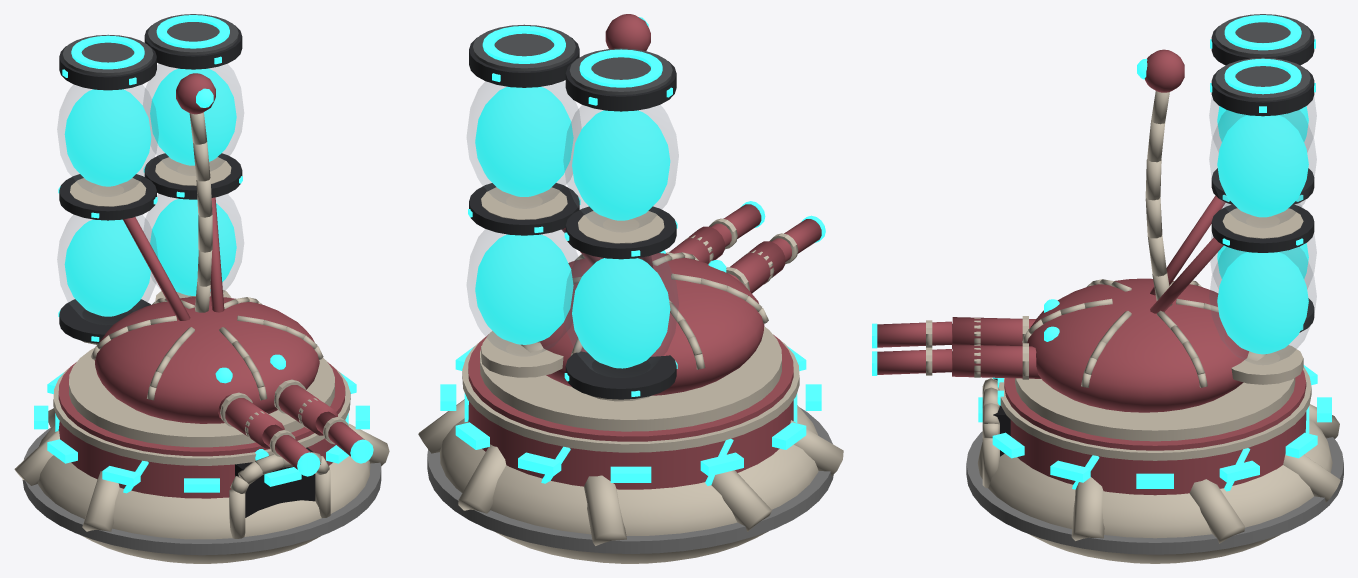
Rendered from Machinegoon_T2_Spitter.glb.
The picture shows the model from 3 angles, left to right: view 1: azimuth 30°, elevation 25°; view 2: azimuth 150°, elevation 25°; view 3: azimuth 270°, elevation 25°; orthographic projection. The views are drawn at different scales.
Visible parts, largest first — view 1: Machinegoon_T2_Spitter_Turret, Machinegoon_T2_Spitter_Base; view 2: Machinegoon_T2_Spitter_Turret, Machinegoon_T2_Spitter_Base; view 3: Machinegoon_T2_Spitter_Turret, Machinegoon_T2_Spitter_Base.
Part boxes in pixels (box(x1,y1,x2,y2)): Machinegoon_T2_Spitter_Turret: box(57, 14, 373, 476); Machinegoon_T2_Spitter_Base: box(14, 362, 389, 563); Machinegoon_T2_Spitter_Turret: box(467, 14, 825, 431); Machinegoon_T2_Spitter_Base: box(418, 334, 843, 563); Machinegoon_T2_Spitter_Turret: box(872, 14, 1316, 441); Machinegoon_T2_Spitter_Base: box(966, 365, 1343, 563).
Bounding box in the file's own units: 3.5 × 4.88 × 4.38.
